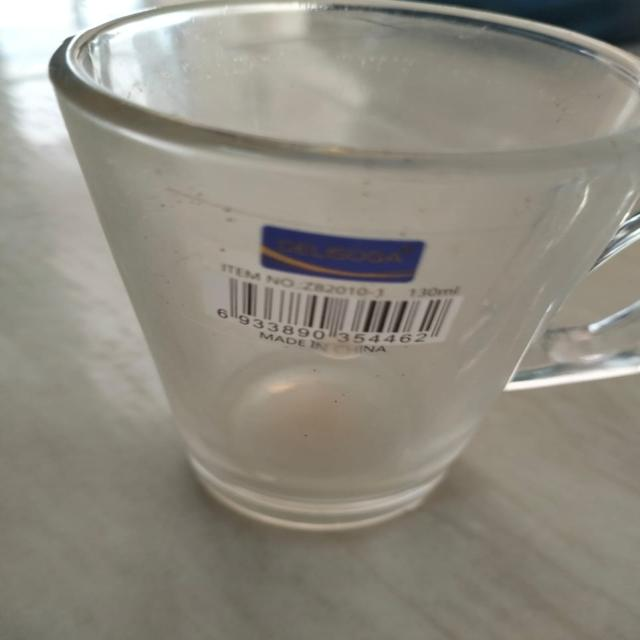glass-VX4N: (49, 0, 638, 539)
